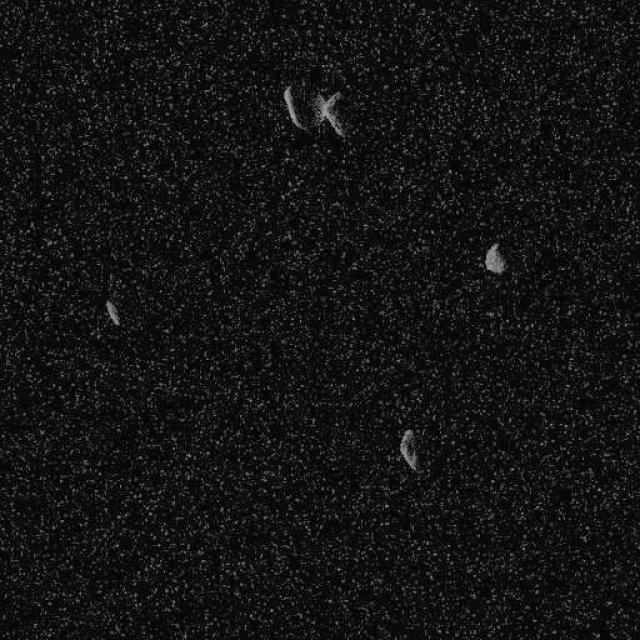D2: (282, 80, 346, 140), (398, 428, 422, 472), (484, 241, 506, 275), (104, 299, 120, 326)
